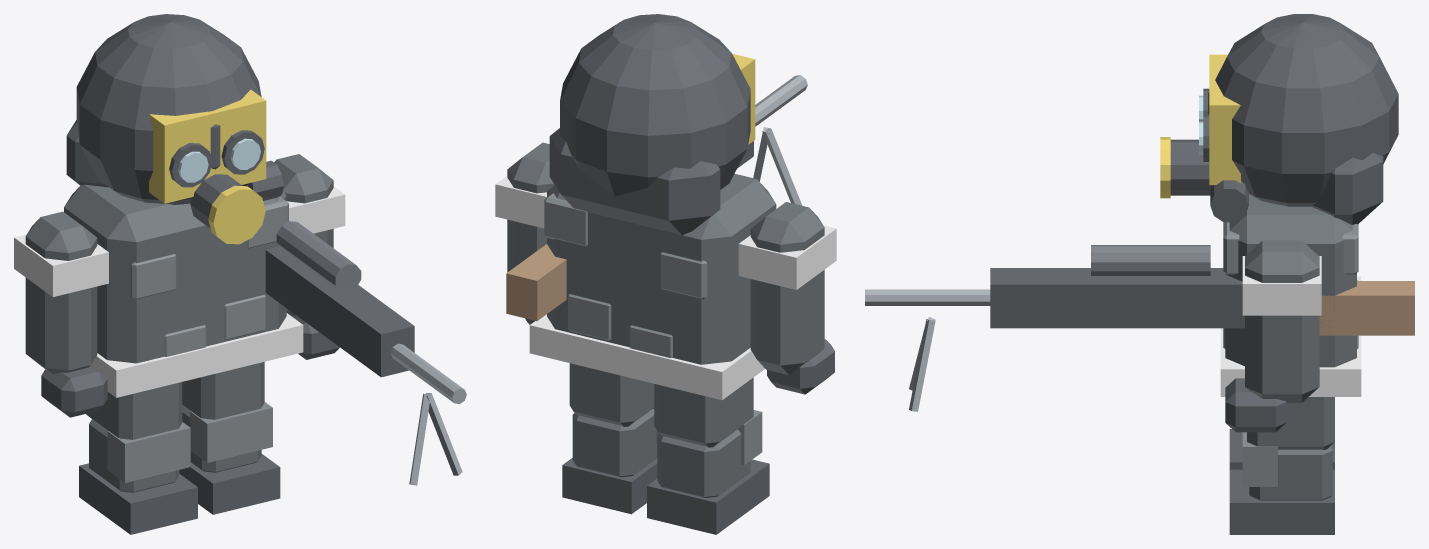
Rendered from sniper@toxico.glb.
3 renders of one model, left to right at view 1: azimuth 30°, elevation 25°; view 2: azimuth 150°, elevation 25°; view 3: azimuth 270°, elevation 25°, orthographic. The views are drawn at different scales.
Parts seen in each view (by area): view 1: main, shinl, shinr, legl, legr; view 2: main, shinl, shinr, legl, legr; view 3: main, shinr, legr.
Part boxes in pixels (x1,y1,x2,y2): main: (14, 14, 466, 485); shinl: (79, 419, 197, 534); shinr: (179, 402, 280, 514); legl: (86, 382, 182, 439); legr: (182, 362, 264, 419); main: (495, 14, 836, 400); shinl: (647, 410, 769, 534); shinr: (562, 408, 658, 514); legl: (654, 377, 753, 447); legr: (569, 363, 654, 426); main: (865, 14, 1414, 432); shinr: (1229, 432, 1334, 534); legr: (1247, 397, 1334, 449).
Bounding box in the file's own units: 0.391 × 0.5975 × 0.6262.
